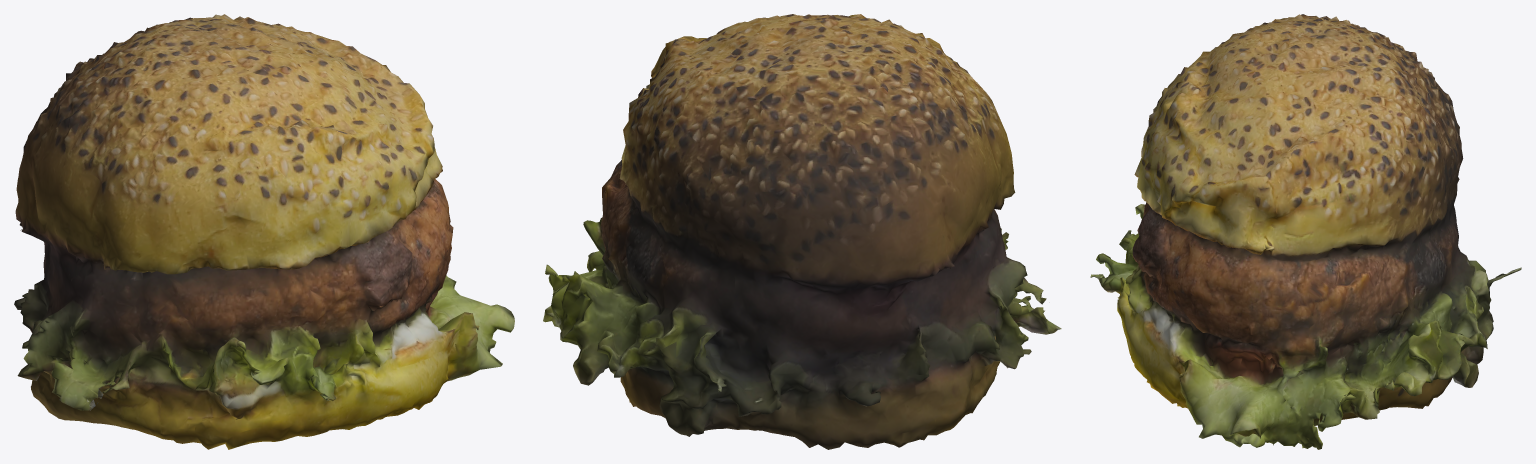
File: hamburguesa.glb
The picture shows the model from 3 angles, left to right: view 1: azimuth 30°, elevation 25°; view 2: azimuth 150°, elevation 25°; view 3: azimuth 270°, elevation 25°; orthographic projection. The views are drawn at different scales.
Visible parts, largest first — view 1: Model; view 2: Model; view 3: Model.
Boxes of the visible parts, x1,y1,x2,y2 form: Model: [14, 14, 514, 449]; Model: [543, 14, 1061, 449]; Model: [1090, 14, 1521, 449].
Bounding box in the file's own units: 0.11 × 0.08 × 0.1.
Materials: 1 (1 with a texture image).
